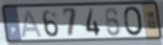4: (84, 6, 102, 38)
6: (41, 8, 61, 39), (104, 6, 122, 38)
7: (61, 6, 80, 39)
A: (20, 9, 44, 39)
O: (122, 5, 145, 37)
